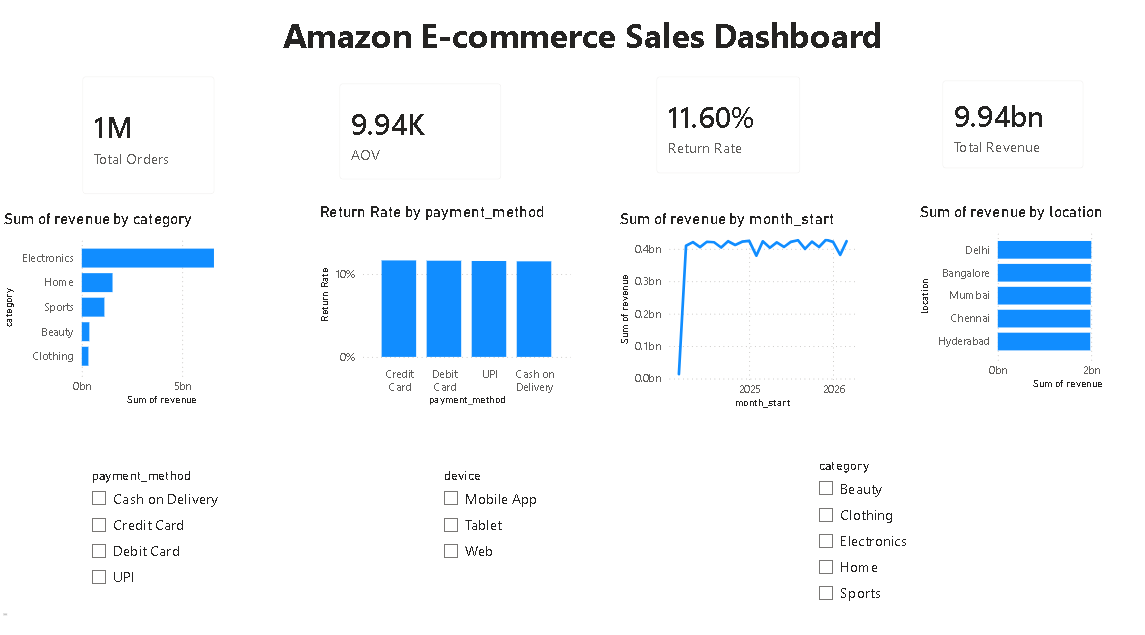

This screenshot's page, from the dashboard's own definition file:
{"tool":"powerbi","page":{"name":"Page 1","canvas":[1280,720],"ordinal":0},"visuals":[{"type":"cardVisual","fields":{"Data":["dashboard_data.Total Revenue"]},"box":[1031.1,73.3,191.1,132.2],"z":0},{"type":"cardVisual","fields":{"Data":["dashboard_data.Total Orders"]},"box":[75.6,68.9,181.1,165.6],"z":1000},{"type":"cardVisual","fields":{"Data":["dashboard_data.AOV"]},"box":[361.1,76.7,214.4,141.1],"z":2000},{"type":"cardVisual","fields":{"Data":["dashboard_data.Return Rate"]},"box":[713.3,68.9,194.4,142.2],"z":3000},{"type":"lineChart","fields":{"Y":["Sum(dashboard_data.revenue)"],"Category":["dashboard_data.month_start"]},"box":[684.7,234.1,274.4,225.3],"z":4000},{"type":"clusteredBarChart","fields":{"Category":["dashboard_data.category"],"Y":["Sum(dashboard_data.revenue)"]},"box":[0,234.5,285.6,221.7],"z":5000},{"type":"clusteredBarChart","fields":{"Category":["dashboard_data.location"],"Y":["Sum(dashboard_data.revenue)"]},"box":[1017.2,227.2,262.8,211.7],"z":6000},{"type":"clusteredColumnChart","fields":{"Category":["dashboard_data.payment_method"],"Y":["dashboard_data.Return Rate"]},"box":[351.2,227.2,289.2,229],"z":7000},{"type":"slicer","fields":{"Values":["dashboard_data.category"]},"box":[897.8,505.6,265.6,184.4],"z":8000},{"type":"slicer","fields":{"Values":["dashboard_data.device"]},"box":[481.1,516.7,317.8,184.4],"z":9000},{"type":"slicer","fields":{"Values":["dashboard_data.payment_method"]},"box":[90.4,516.7,282.1,178.2],"z":10000},{"type":"textbox","box":[7.8,493.3,12.2,45.6],"z":11000},{"type":"textbox","box":[0,677.8,14.4,12.2],"z":12000},{"type":"textbox","box":[299.2,9.1,699.8,76.6],"z":13000}]}

Visuals, with their boxes in screenshot pixels (x1, y1, x2, y2), scaled from the page's 1280x720 canvas onto the 1145x635 screenshot:
cardVisual - dashboard_data.Total Revenue: rect(922, 65, 1093, 181)
cardVisual - dashboard_data.Total Orders: rect(68, 61, 230, 207)
cardVisual - dashboard_data.AOV: rect(323, 68, 515, 192)
cardVisual - dashboard_data.Return Rate: rect(638, 61, 812, 186)
lineChart - Sum(dashboard_data.revenue) x dashboard_data.month_start: rect(612, 206, 858, 405)
clusteredBarChart - dashboard_data.category x Sum(dashboard_data.revenue): rect(0, 207, 255, 402)
clusteredBarChart - dashboard_data.location x Sum(dashboard_data.revenue): rect(910, 200, 1144, 387)
clusteredColumnChart - dashboard_data.payment_method x dashboard_data.Return Rate: rect(314, 200, 573, 402)
slicer - dashboard_data.category: rect(803, 446, 1041, 609)
slicer - dashboard_data.device: rect(430, 456, 715, 618)
slicer - dashboard_data.payment_method: rect(81, 456, 333, 613)
textbox: rect(7, 435, 18, 475)
textbox: rect(0, 598, 13, 609)
textbox: rect(268, 8, 894, 76)
